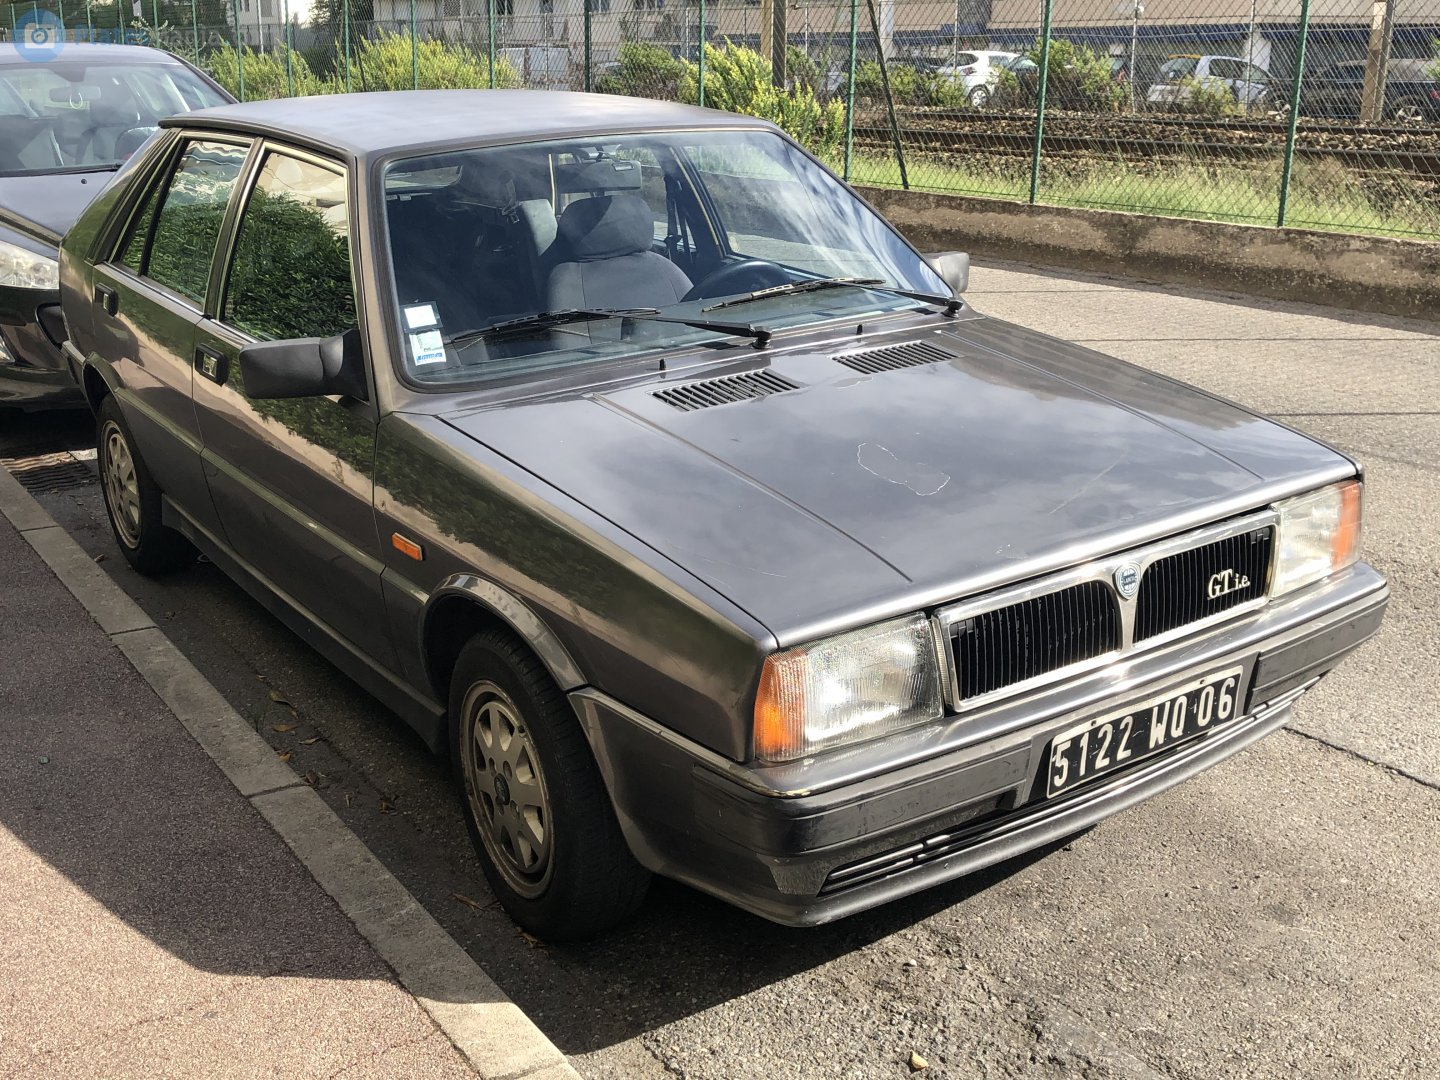licence plate: (1045, 664, 1244, 799)
